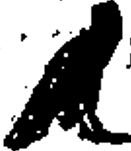Owl: (5, 1, 130, 150)
